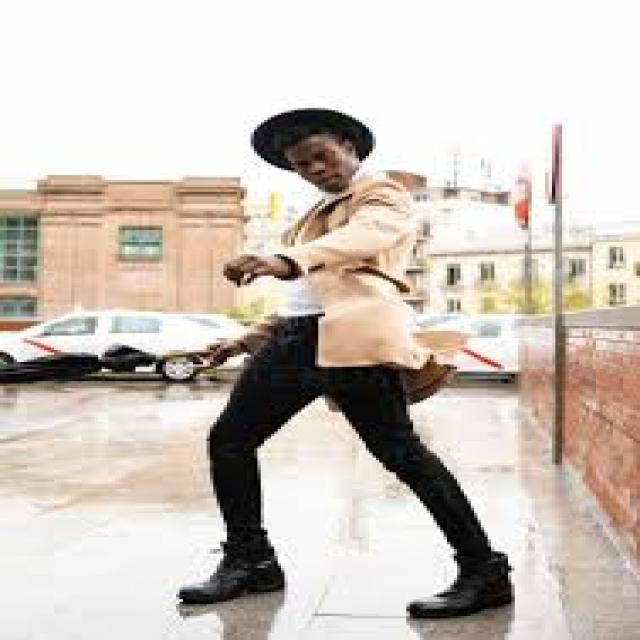hat: (247, 103, 379, 194)
